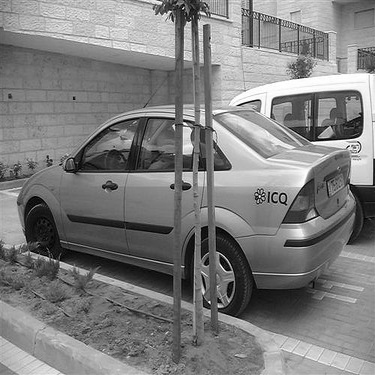car: (14, 97, 356, 302), (221, 47, 373, 194)
